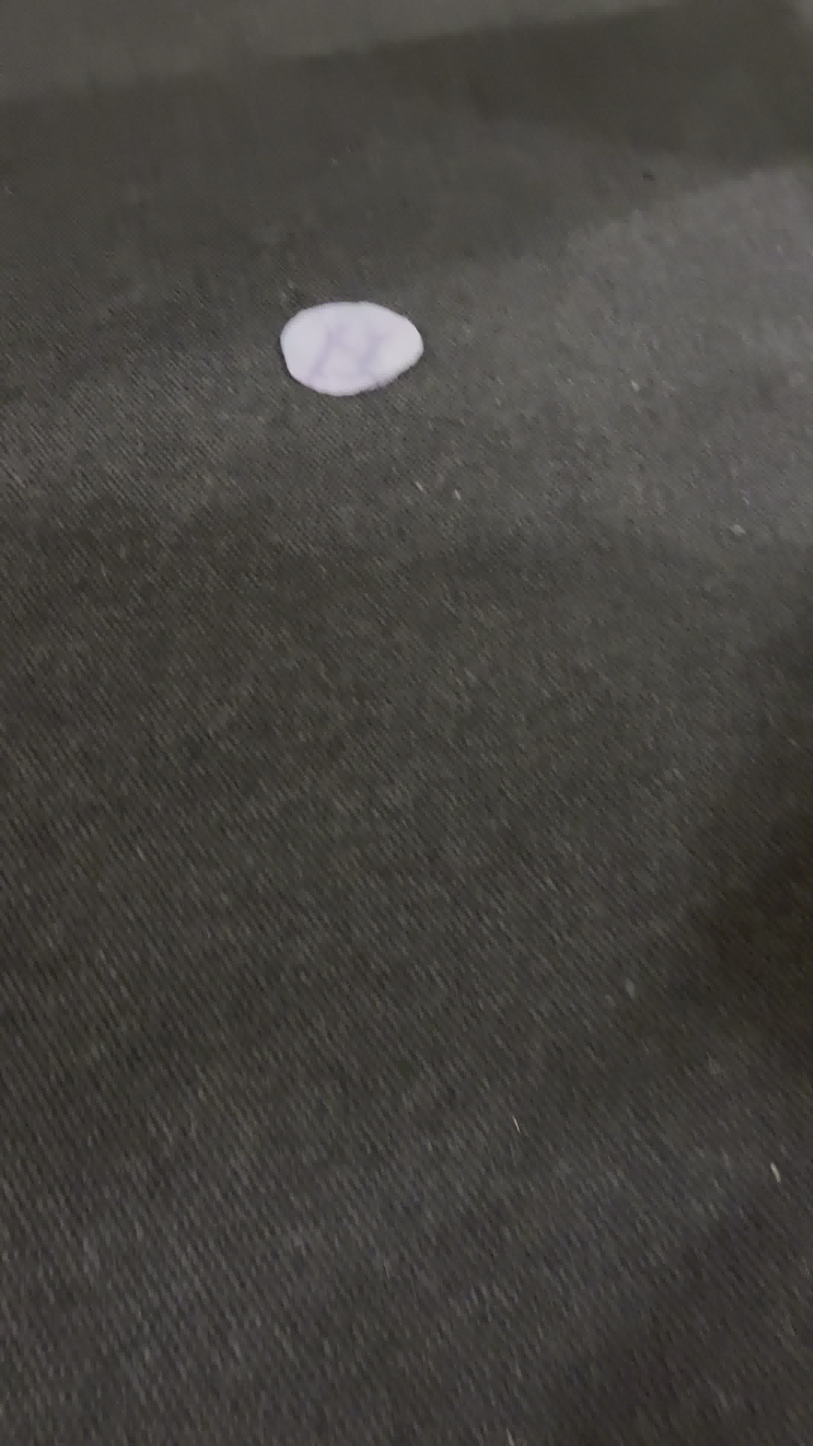Target: (280, 301, 424, 396)
